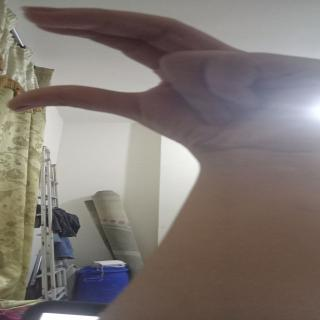DHELL: (9, 0, 320, 142)
